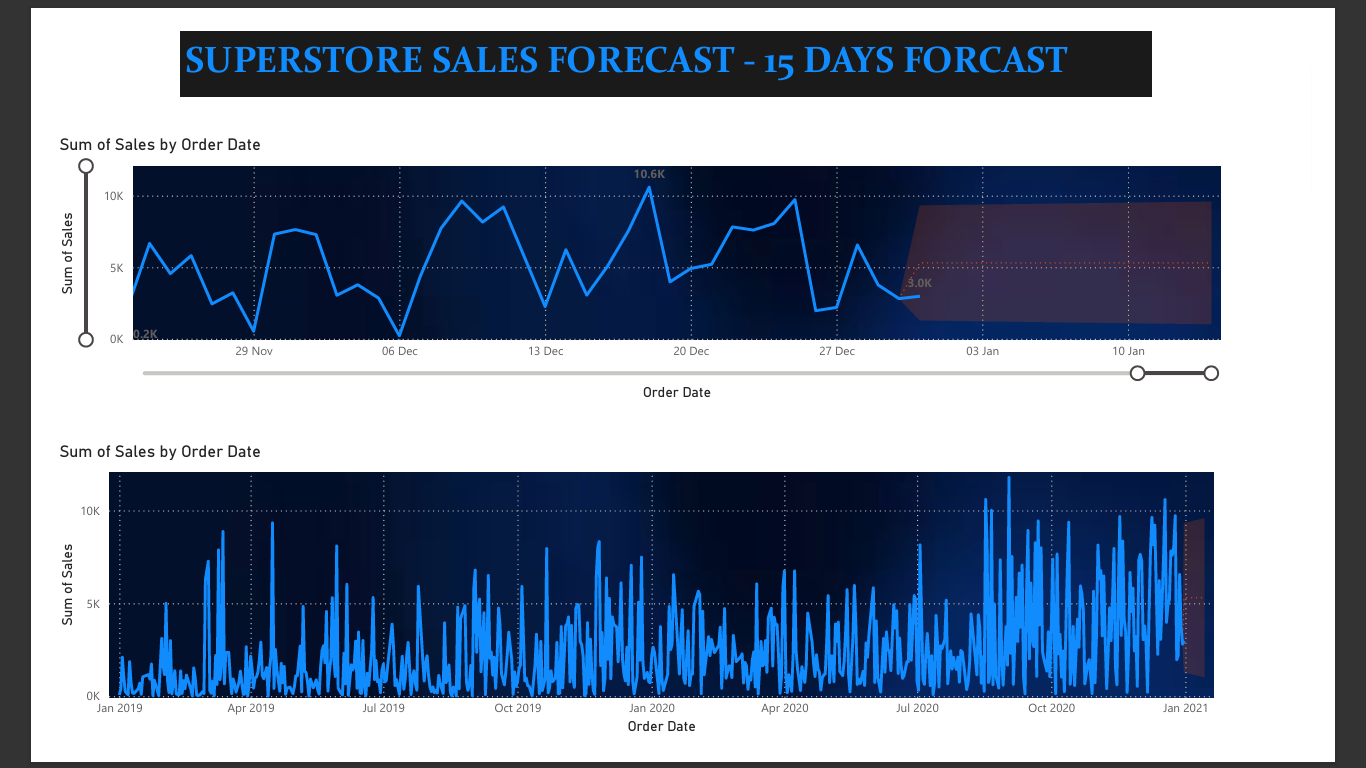

The page's visual inventory and layout, read from the dashboard file:
{"tool":"powerbi","page":{"name":"Page 2","canvas":[1280,720],"ordinal":1},"visuals":[{"type":"lineChart","fields":{"Y":["Sum(SuperStore_Sales_Dataset.Sales)"],"Category":["SuperStore_Sales_Dataset.Order Date"]},"box":[0,416.7,1200,303.3],"z":0},{"type":"lineChart","fields":{"Y":["Sum(SuperStore_Sales_Dataset.Sales)"],"Category":["SuperStore_Sales_Dataset.Order Date"]},"box":[0,105,1200,275],"z":1000},{"type":"textbox","box":[128.3,0,988.3,66.7],"z":1001}]}

Visuals, with their boxes in screenshot pixels (x1, y1, x2, y2), scaled from the page's 1280x720 canvas onto the 1366x768 screenshot:
lineChart - Sum(SuperStore_Sales_Dataset.Sales) x SuperStore_Sales_Dataset.Order Date: bbox=(0, 444, 1281, 767)
lineChart - Sum(SuperStore_Sales_Dataset.Sales) x SuperStore_Sales_Dataset.Order Date: bbox=(0, 112, 1281, 405)
textbox: bbox=(137, 0, 1192, 71)
